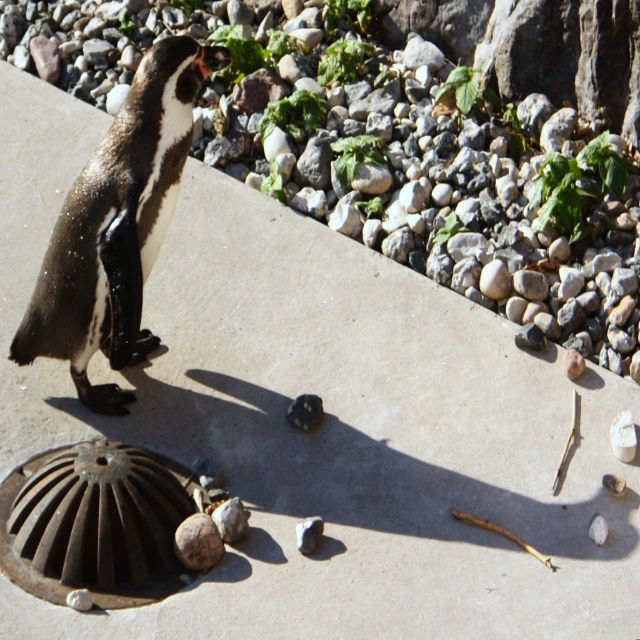Penguin: (8, 30, 235, 420)
